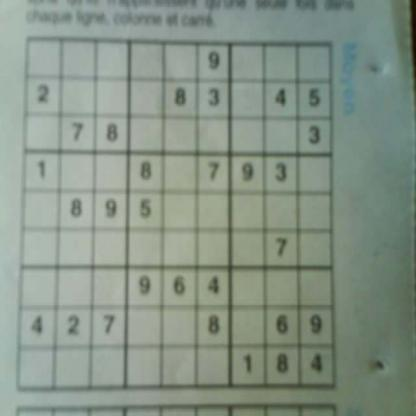sudoku: (13, 31, 342, 397)
